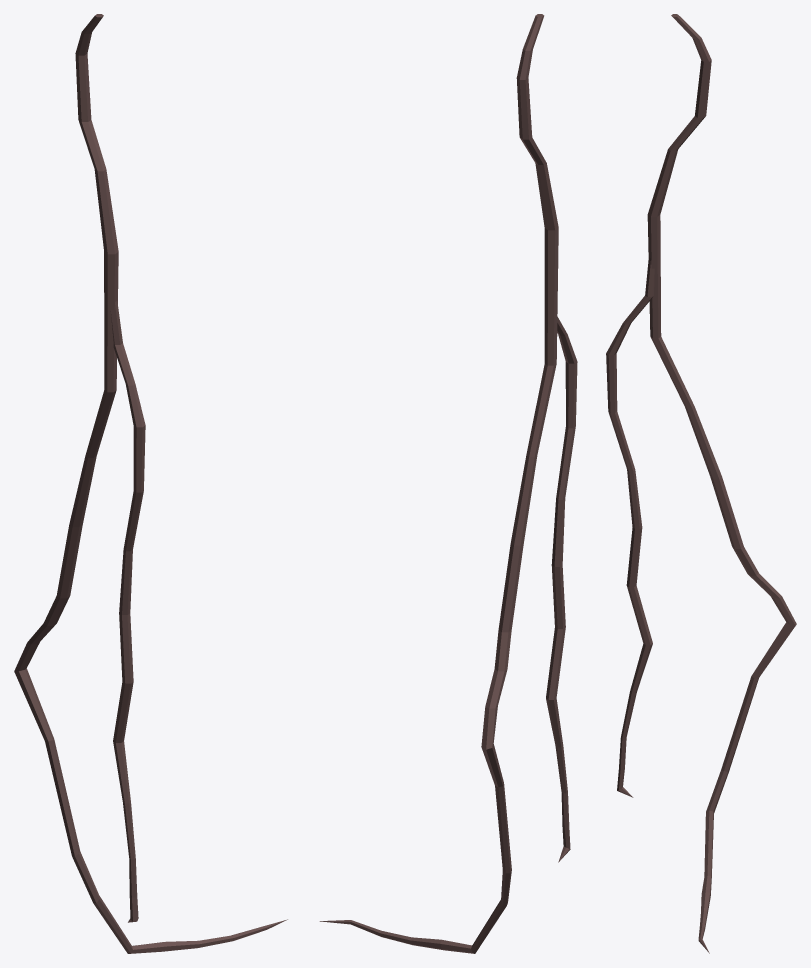
3 renders of one model, left to right at view 1: azimuth 30°, elevation 25°; view 2: azimuth 150°, elevation 25°; view 3: azimuth 270°, elevation 25°, orthographic. The views are drawn at different scales.
Parts seen in each view (by area): view 1: Root 5; view 2: Root 5; view 3: Root 5.
Boxes of the visible parts, bbox=[...] form: Root 5: bbox=[14, 14, 287, 953]; Root 5: bbox=[319, 14, 577, 953]; Root 5: bbox=[606, 14, 796, 953].
Size of the model in its own units: 244 by 999 by 203.
